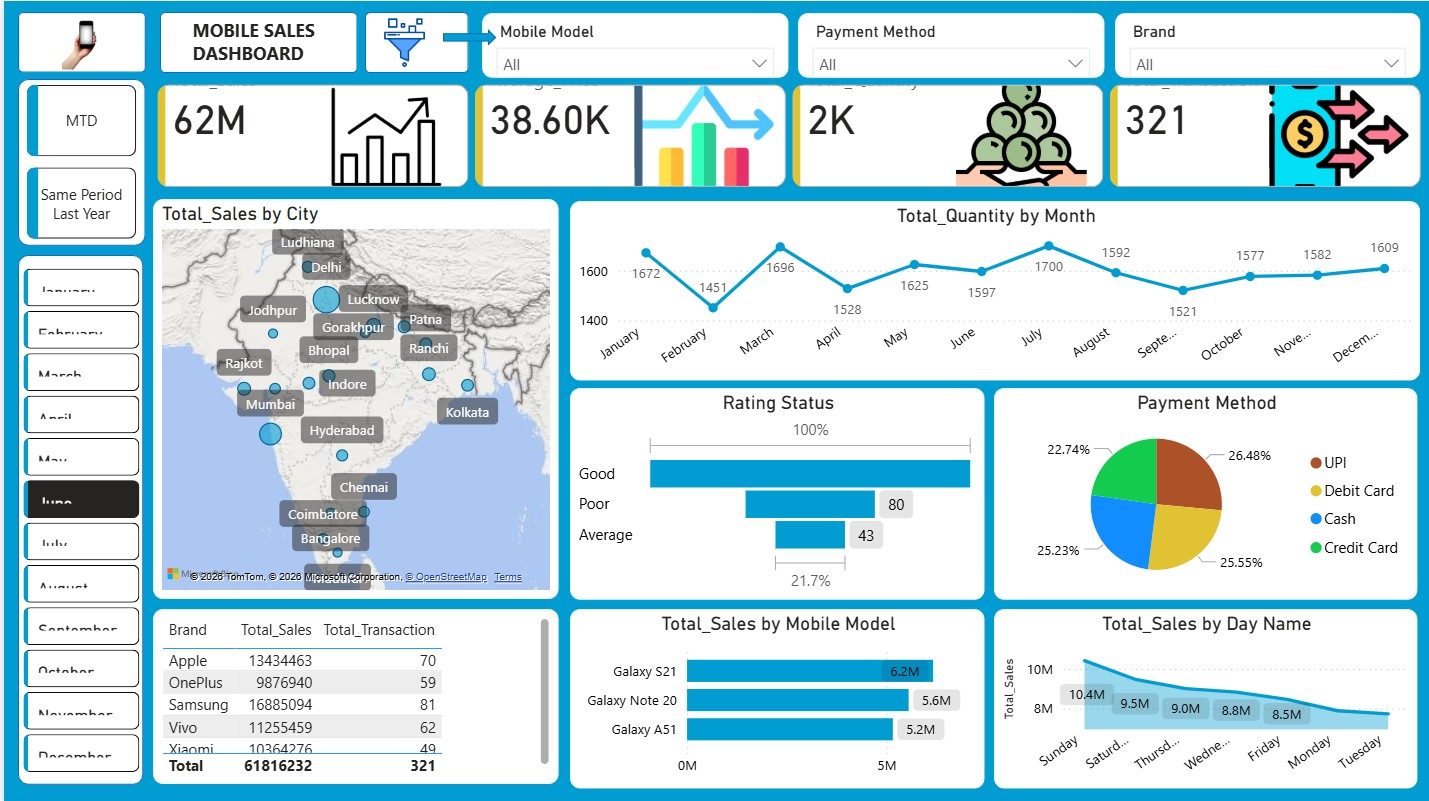

The dashboard page shown, as its layout file describes it:
{"tool":"powerbi","page":{"name":"Dashboard","canvas":[1280,720],"ordinal":0},"visuals":[{"type":"shape","box":[12.6,9.7,114.8,54.5],"z":0},{"type":"shape","box":[12.7,70.5,114.5,149.7],"z":1000},{"type":"shape","box":[12.7,228,112.5,475.6],"z":2000},{"type":"advancedSlicerVisual","fields":{"Values":["Custom_Calender.Date.Variation.Date Hierarchy.Month"]},"box":[12.7,234.9,114.5,469.7],"z":3000},{"type":"cardVisual","fields":{"Data":["Sales_Data.Total_Sales","Sales_Data.Average_Price","Sales_Data.Total_Quantity","Sales_Data.Total_Transaction"]},"box":[133,70,1147.4,102.9],"z":4000},{"type":"slicer","fields":{"Values":["Sales_Data.Mobile Model"]},"box":[428.3,9.8,276.6,60.3],"z":5000},{"type":"slicer","fields":{"Values":["Sales_Data.Payment Method"]},"box":[712,9.8,276.6,60.3],"z":6000},{"type":"slicer","fields":{"Values":["Sales_Data.Brand"]},"box":[996.6,9.8,275.8,60.3],"z":7000},{"type":"shape","box":[324.5,9.8,93.1,55],"z":8000},{"type":"image","box":[324.5,9.8,70,55],"z":9000},{"type":"shape","box":[393.7,24.8,47.9,15.1],"z":10000},{"type":"shape","box":[140.1,9.8,177.3,55],"z":11000},{"type":"textbox","box":[164,9.8,170.2,60.3],"z":12000},{"type":"map","fields":{"Category":["Sales_Data.City"],"Size":["Sales_Data.Total_Sales"]},"box":[133.1,177.1,366,361.1],"z":13000},{"type":"lineChart","fields":{"Y":["Sales_Data.Total_Quantity"],"Category":["Custom_Calender.Date.Variation.Date Hierarchy.Month"]},"box":[507.2,178.2,765.2,163.2],"z":14000},{"type":"funnel","title":"Rating Status","fields":{"Category":["Sales_Data.Rating Status"],"Y":["CountNonNull(Sales_Data.Customer Ratings)"]},"box":[507.2,346.7,374.2,191.5],"z":15000},{"type":"pieChart","title":"Payment Method","fields":{"Category":["Sales_Data.Payment Method"],"Y":["CountNonNull(Sales_Data.Payment Method)"]},"box":[887.6,346.7,382.2,191.5],"z":16000},{"type":"clusteredBarChart","fields":{"Category":["Sales_Data.Mobile Model"],"Y":["Sales_Data.Total_Sales"]},"box":[506.9,545.1,373.8,163.4],"z":17000},{"type":"stackedAreaChart","fields":{"Y":["Sales_Data.Total_Sales"],"Category":["Custom_Calender.Day Name"]},"box":[888,545,382,163],"z":18000},{"type":"tableEx","fields":{"Values":["Sales_Data.Brand","Sales_Data.Total_Sales","Sales_Data.Total_Transaction"]},"box":[133.1,545.1,366,158.5],"z":19000},{"type":"pageNavigator","box":[20.6,75.3,98.8,139.9],"z":19001},{"type":"image","box":[43.1,12.7,53.8,53.8],"z":19002}]}

Visuals, with their boxes in screenshot pixels (x1, y1, x2, y2), scaled from the page's 1280x720 canvas onto the 1429x801 screenshot:
shape: Rect(14, 11, 142, 71)
shape: Rect(14, 78, 142, 245)
shape: Rect(14, 254, 140, 783)
advancedSlicerVisual - Custom_Calender.Date.Variation.Date Hierarchy.Month: Rect(14, 261, 142, 784)
cardVisual - Sales_Data.Total_Sales x Sales_Data.Average_Price: Rect(148, 78, 1428, 192)
slicer - Sales_Data.Mobile Model: Rect(478, 11, 787, 78)
slicer - Sales_Data.Payment Method: Rect(795, 11, 1104, 78)
slicer - Sales_Data.Brand: Rect(1113, 11, 1421, 78)
shape: Rect(362, 11, 466, 72)
image: Rect(362, 11, 440, 72)
shape: Rect(440, 28, 493, 44)
shape: Rect(156, 11, 354, 72)
textbox: Rect(183, 11, 373, 78)
map - Sales_Data.City x Sales_Data.Total_Sales: Rect(149, 197, 557, 599)
lineChart - Sales_Data.Total_Quantity x Custom_Calender.Date.Variation.Date Hierarchy.Month: Rect(566, 198, 1421, 380)
"Rating Status" funnel: Rect(566, 386, 984, 599)
"Payment Method" pieChart: Rect(991, 386, 1418, 599)
clusteredBarChart - Sales_Data.Mobile Model x Sales_Data.Total_Sales: Rect(566, 606, 983, 788)
stackedAreaChart - Sales_Data.Total_Sales x Custom_Calender.Day Name: Rect(991, 606, 1418, 788)
tableEx - Sales_Data.Brand x Sales_Data.Total_Sales: Rect(149, 606, 557, 783)
pageNavigator: Rect(23, 84, 133, 239)
image: Rect(48, 14, 108, 74)
